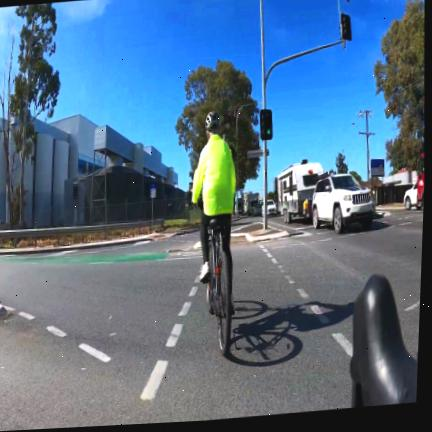Green_Bike_Lane: (19, 252, 171, 264)
